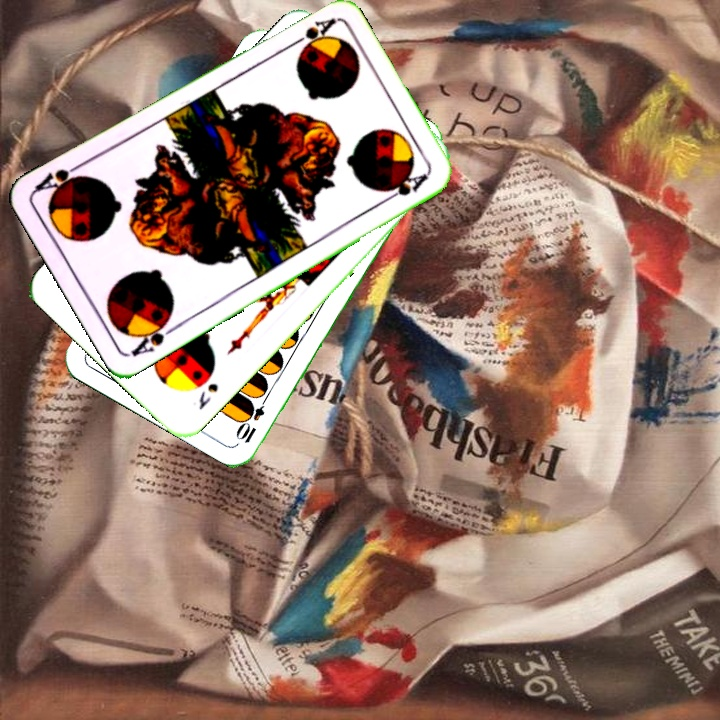E10: (235, 390, 272, 446)
SA: (127, 312, 181, 360), (283, 14, 338, 51)
SK: (194, 379, 221, 413)
